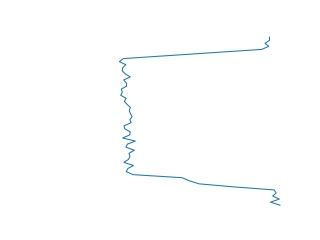distributaryChannelFill: (114, 36, 286, 206)
